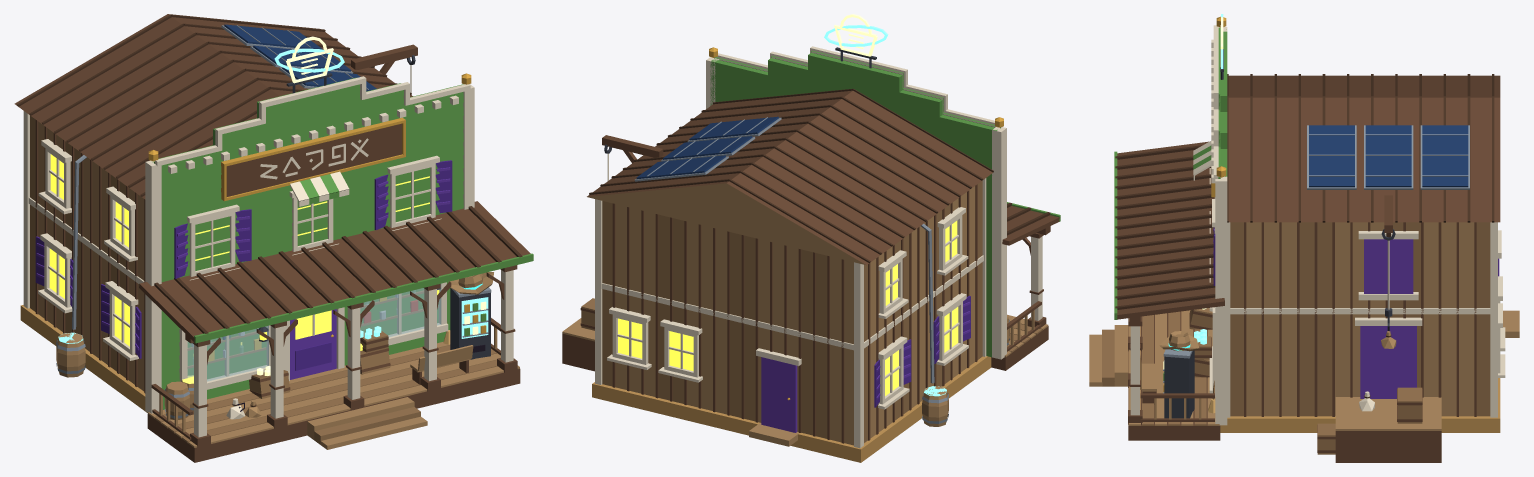
File: Bldg_GeneralStore2.fbx
3 renders of one model, left to right at view 1: azimuth 30°, elevation 25°; view 2: azimuth 150°, elevation 25°; view 3: azimuth 270°, elevation 25°, orthographic. The views are drawn at different scales.
Visible parts, largest first — view 1: Bldg_GeneralStore_Body, Bldg_GeneralStore_Door, Bldg_GeneralStore_Sign; view 2: Bldg_GeneralStore_Body, Bldg_GeneralStore_Sign; view 3: Bldg_GeneralStore_Body, Bldg_GeneralStore_Hook.
Boxes of the visible parts, x1,y1,x2,y2 form: Bldg_GeneralStore_Body: (14, 14, 533, 462); Bldg_GeneralStore_Door: (290, 309, 336, 379); Bldg_GeneralStore_Sign: (274, 36, 344, 83); Bldg_GeneralStore_Body: (562, 46, 1060, 462); Bldg_GeneralStore_Sign: (824, 14, 888, 56); Bldg_GeneralStore_Body: (1089, 16, 1519, 462); Bldg_GeneralStore_Hook: (1381, 240, 1396, 348).
Bounding box in the file's own units: 12.33 × 10.69 × 12.15.
